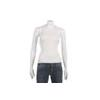canottiera: (40, 28, 60, 64)
